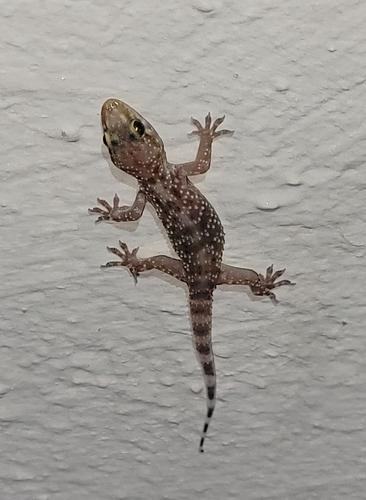lizard: (83, 93, 289, 445)
